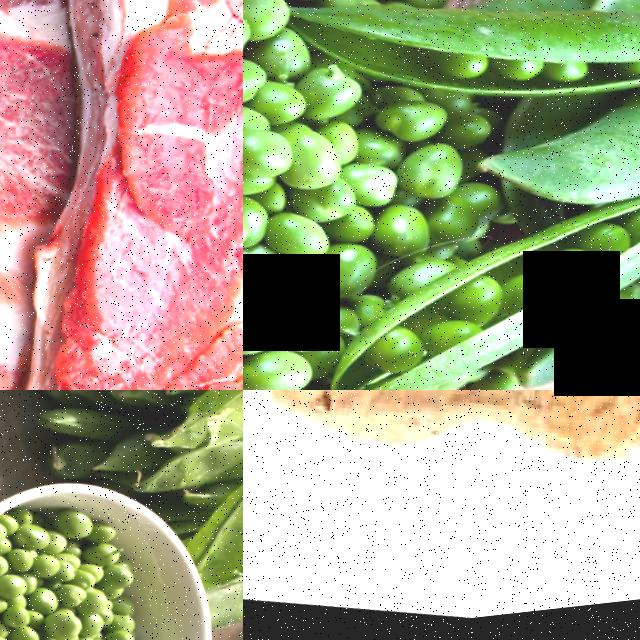peanuts: (243, 390, 640, 550)
peas: (243, 22, 466, 307), (0, 499, 172, 640), (243, 232, 363, 390)
pork belly: (0, 0, 243, 390), (0, 0, 155, 390)
